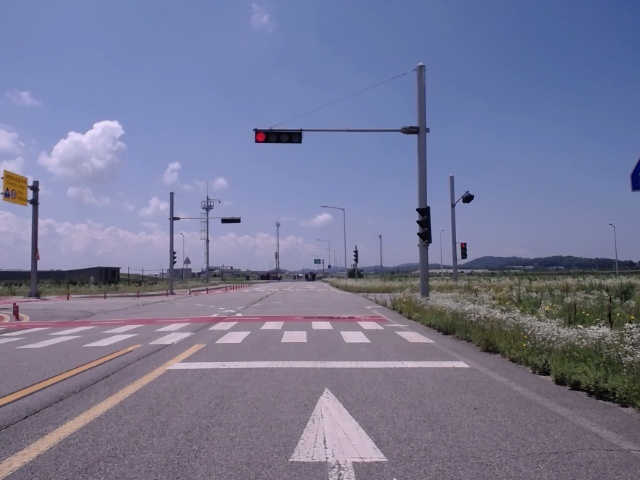red_4: (255, 131, 302, 144)
